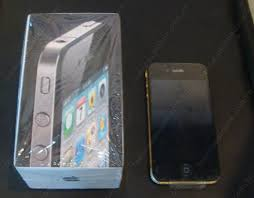iphone: (143, 59, 214, 189)
iphone4: (143, 58, 214, 188)
